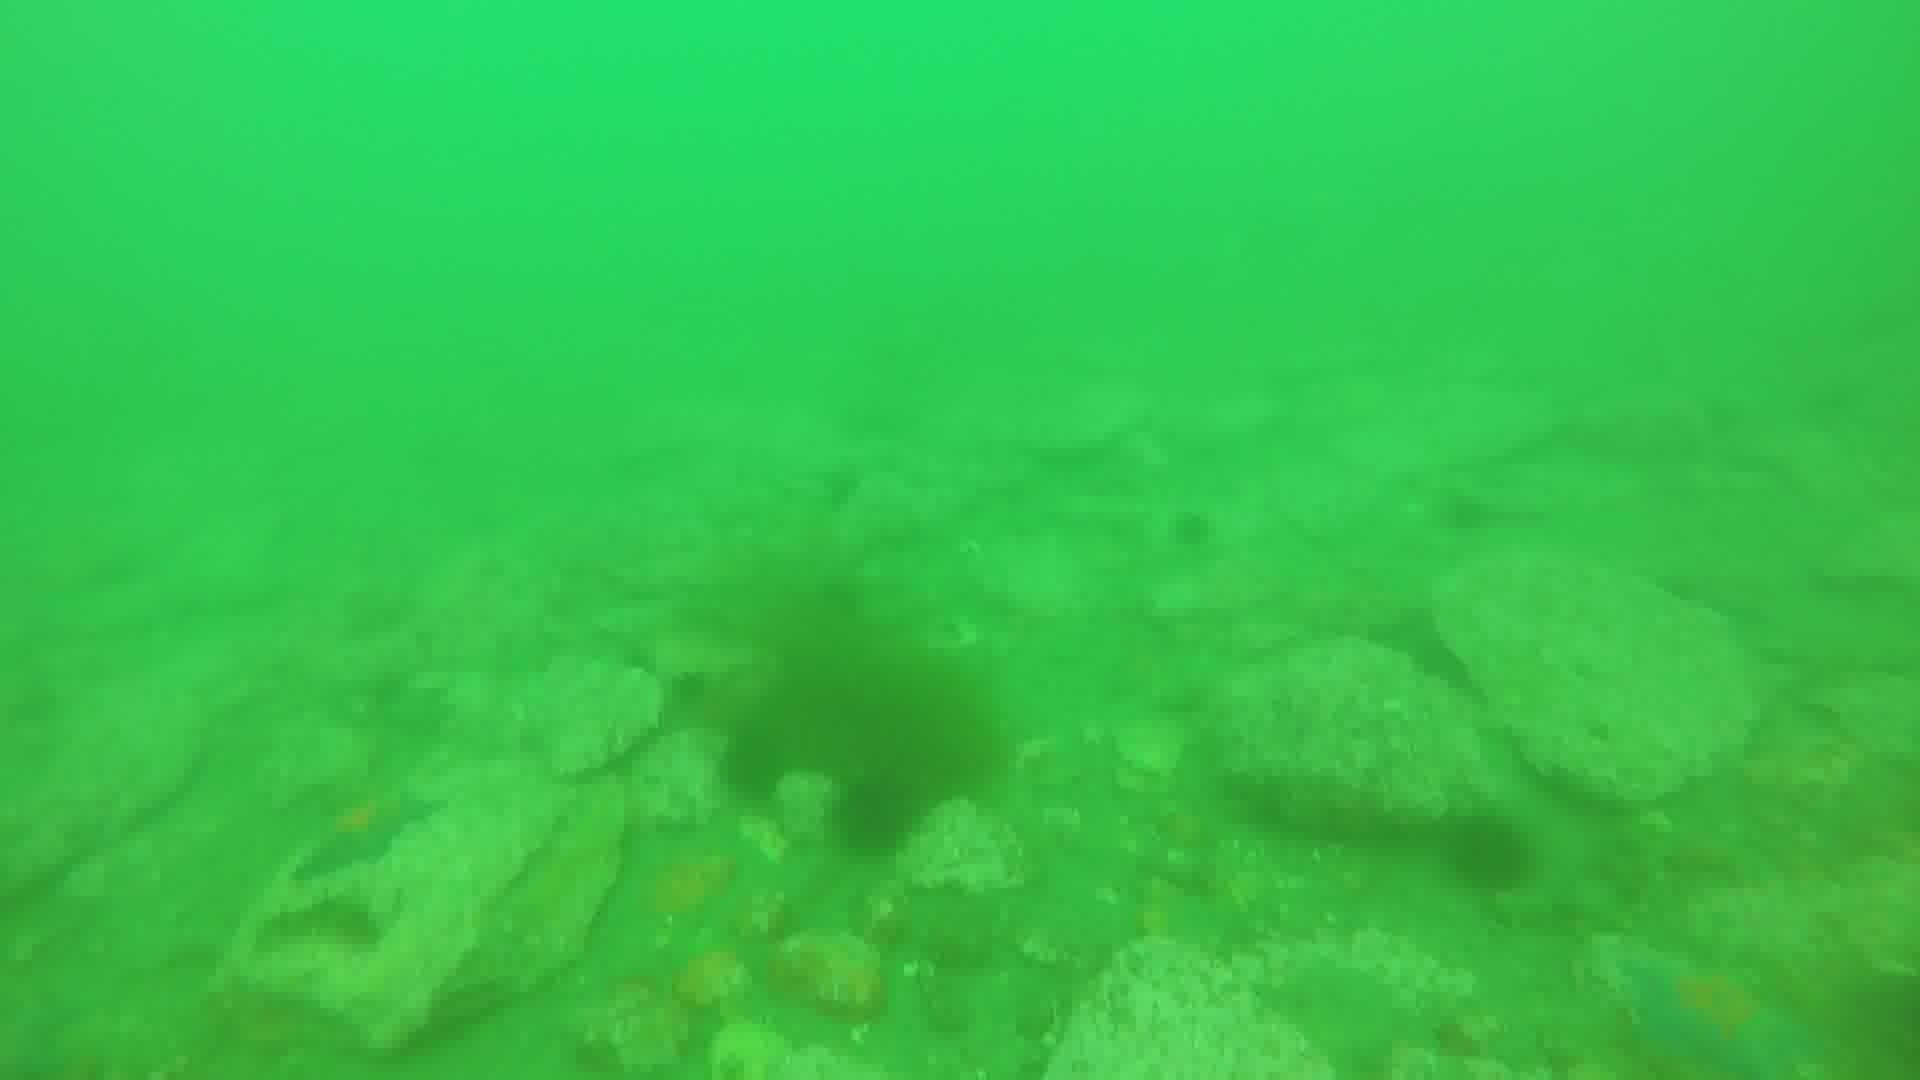echinus: (827, 767, 923, 862), (1439, 807, 1538, 897), (713, 723, 795, 806), (1164, 504, 1221, 556)
starfish: (1613, 948, 1822, 1079), (287, 777, 443, 885)
